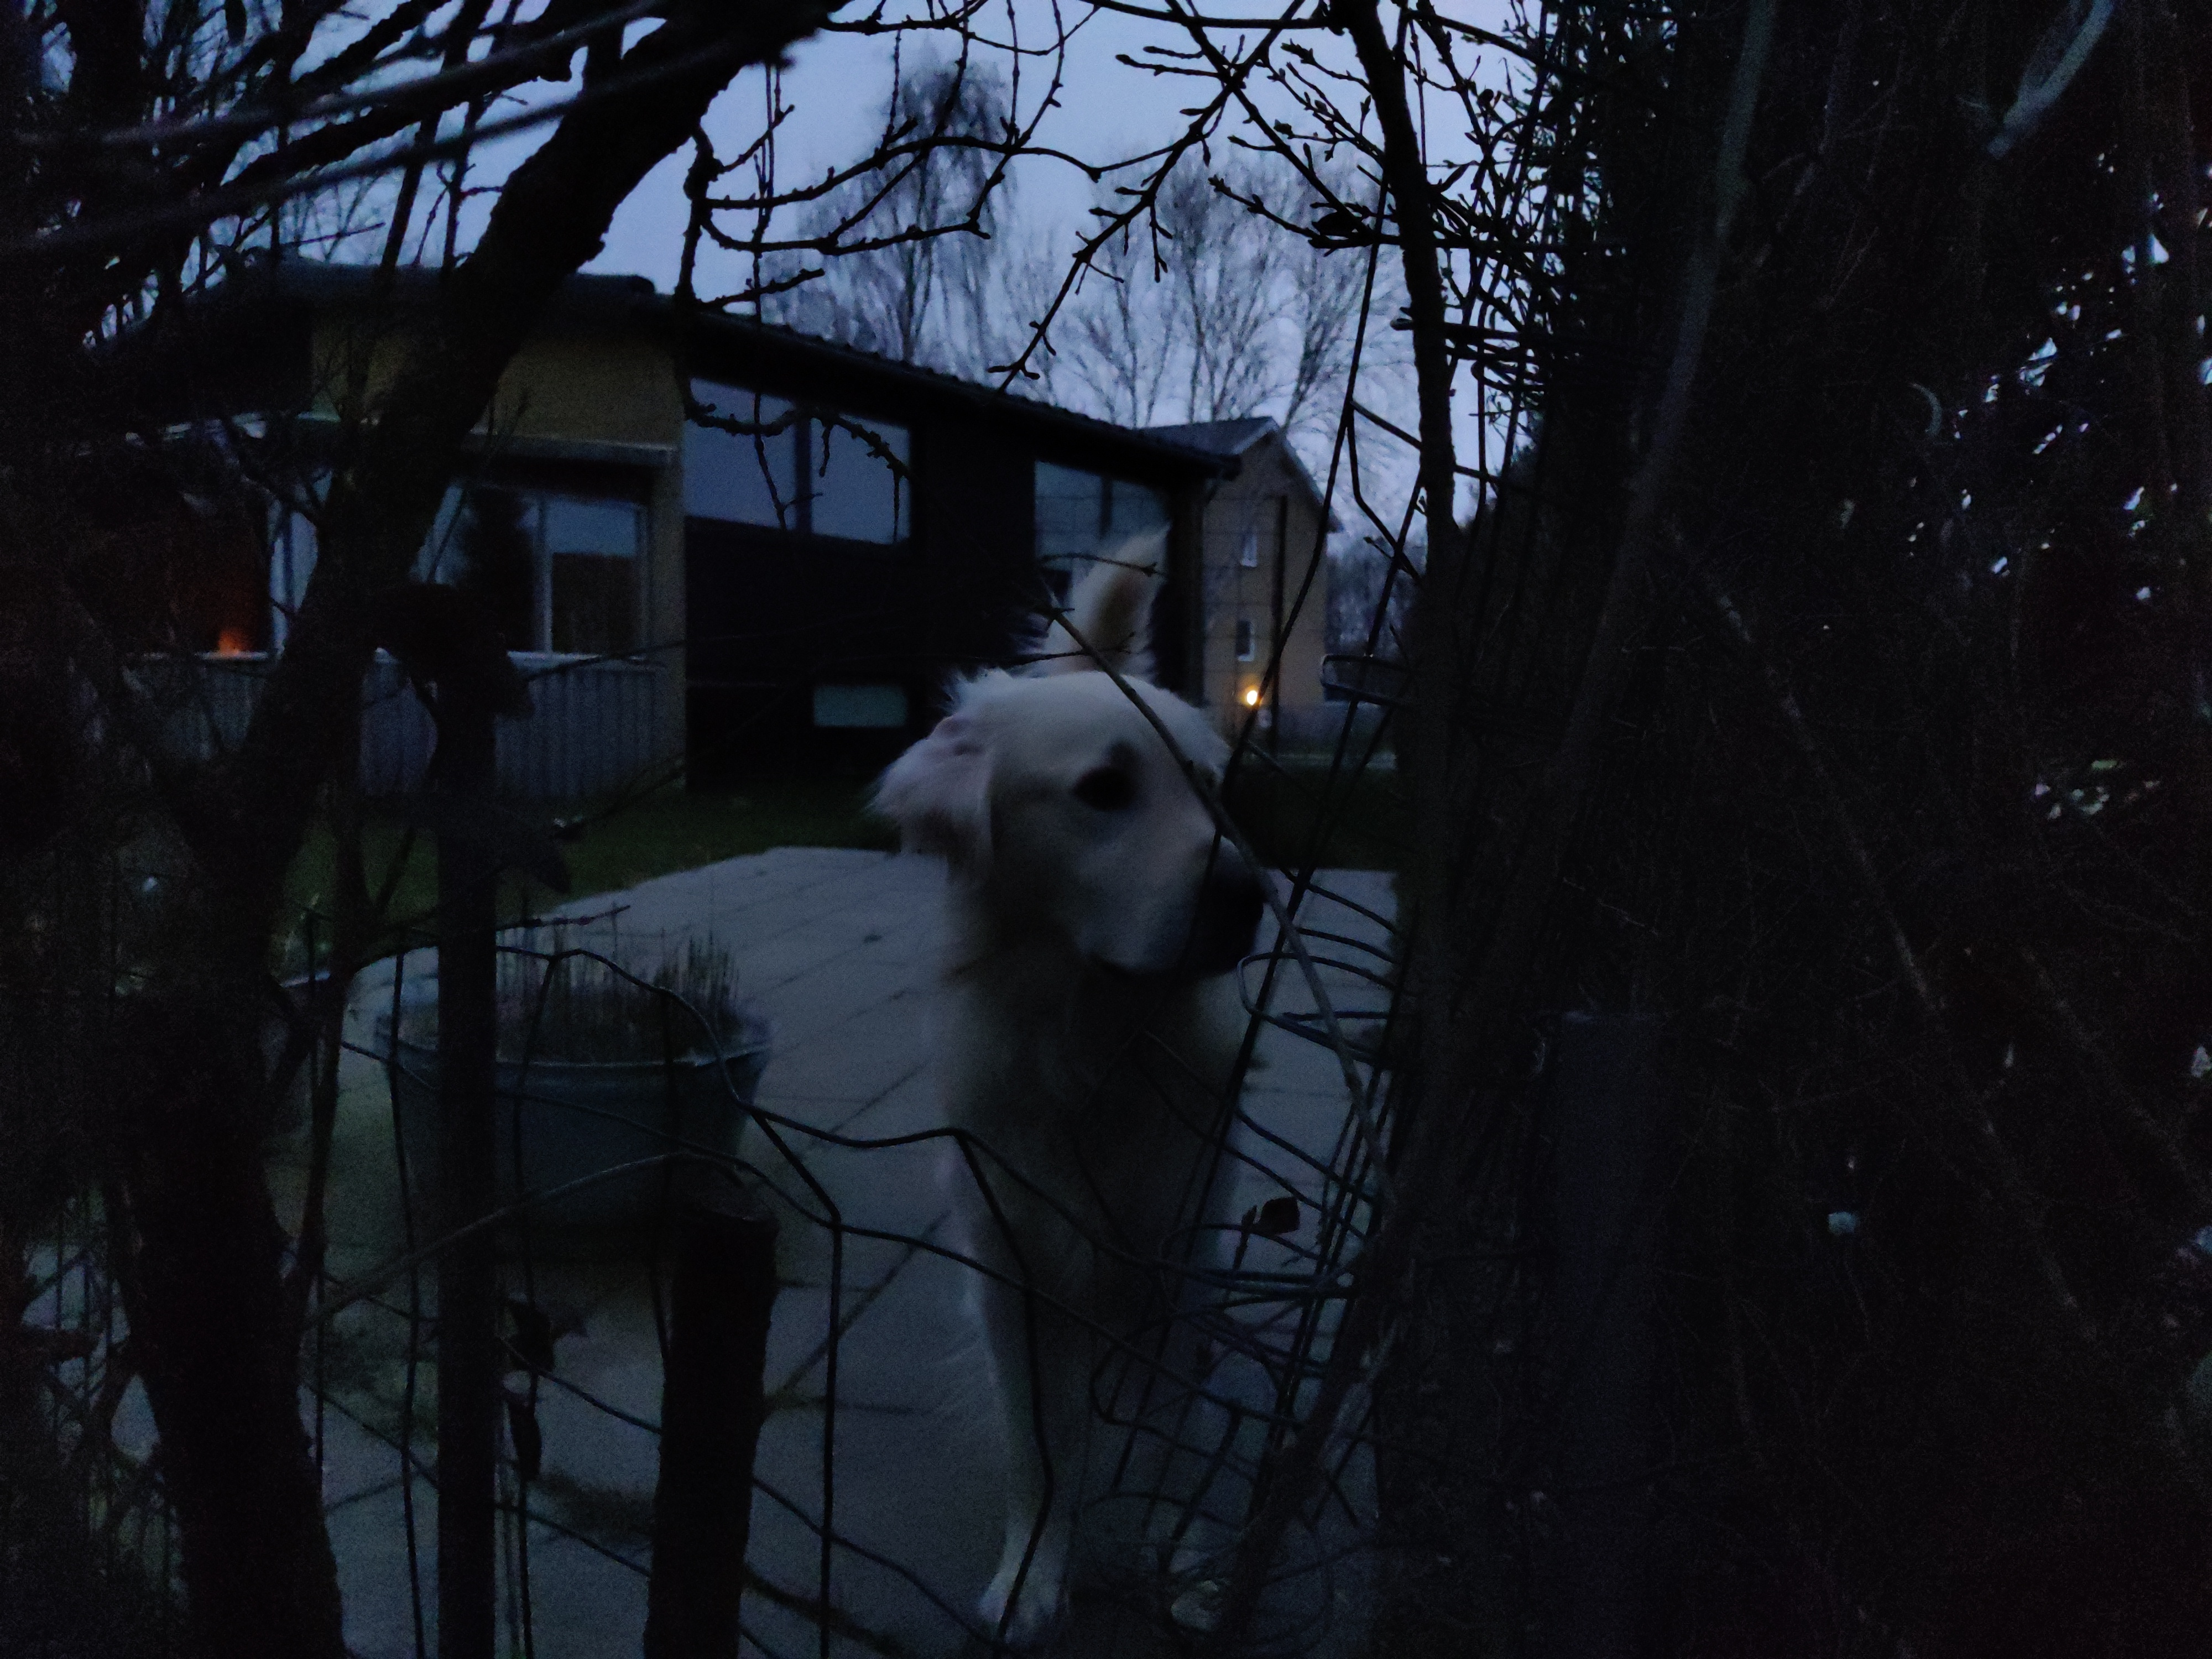Dog: (867, 519, 1298, 1659)
